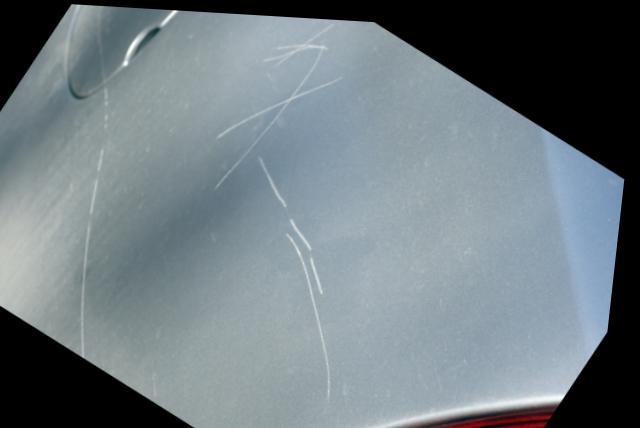scratch: (208, 23, 345, 394), (86, 82, 113, 358)
